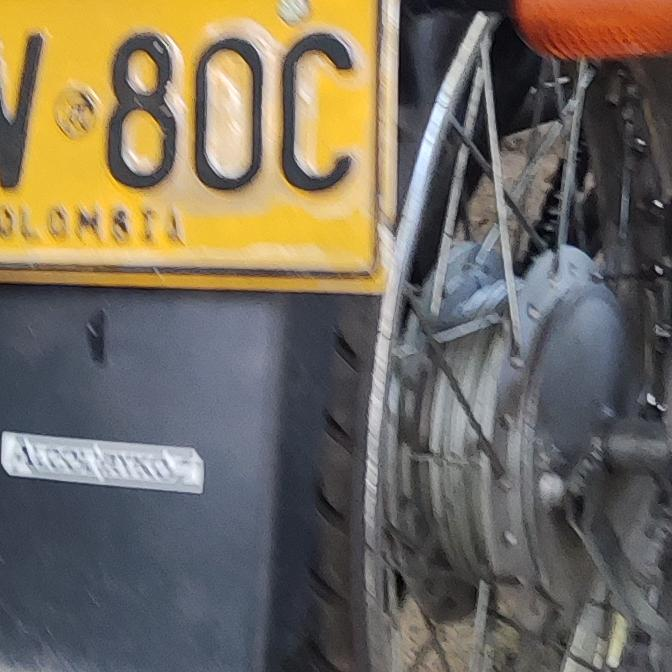plates: (0, 0, 396, 293)
